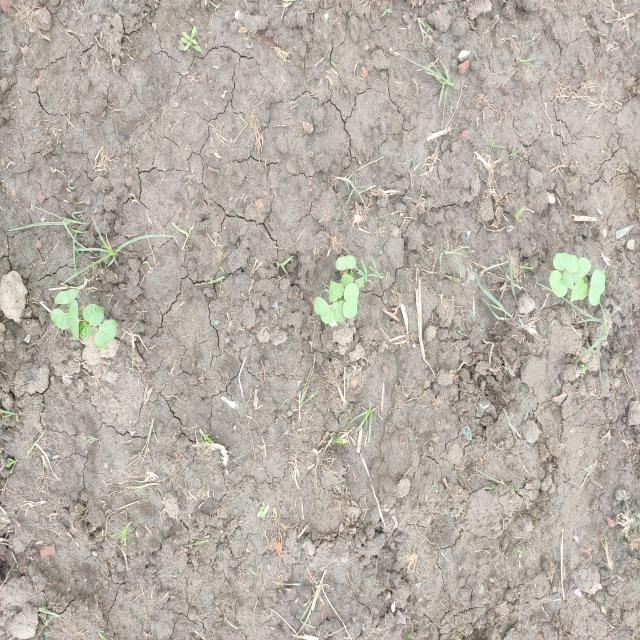seedling_s4: (94, 319, 117, 348), (588, 269, 606, 306), (342, 283, 359, 319), (313, 297, 334, 324), (83, 304, 105, 327), (553, 253, 578, 273), (573, 257, 592, 283), (549, 270, 567, 297), (67, 300, 79, 339), (570, 279, 588, 302), (50, 308, 69, 329), (54, 289, 79, 304), (335, 255, 356, 271), (329, 280, 344, 302), (330, 301, 344, 323), (561, 270, 573, 290), (79, 322, 93, 338), (341, 272, 353, 287), (355, 276, 364, 290)
